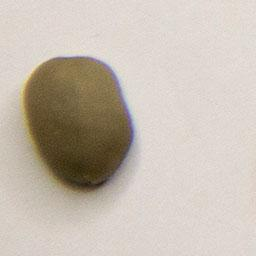premium: (20, 53, 137, 189)
